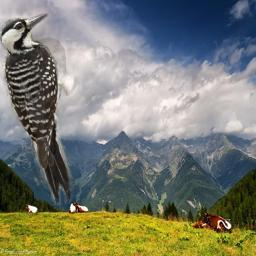Woodpecker: (0, 13, 74, 205)
